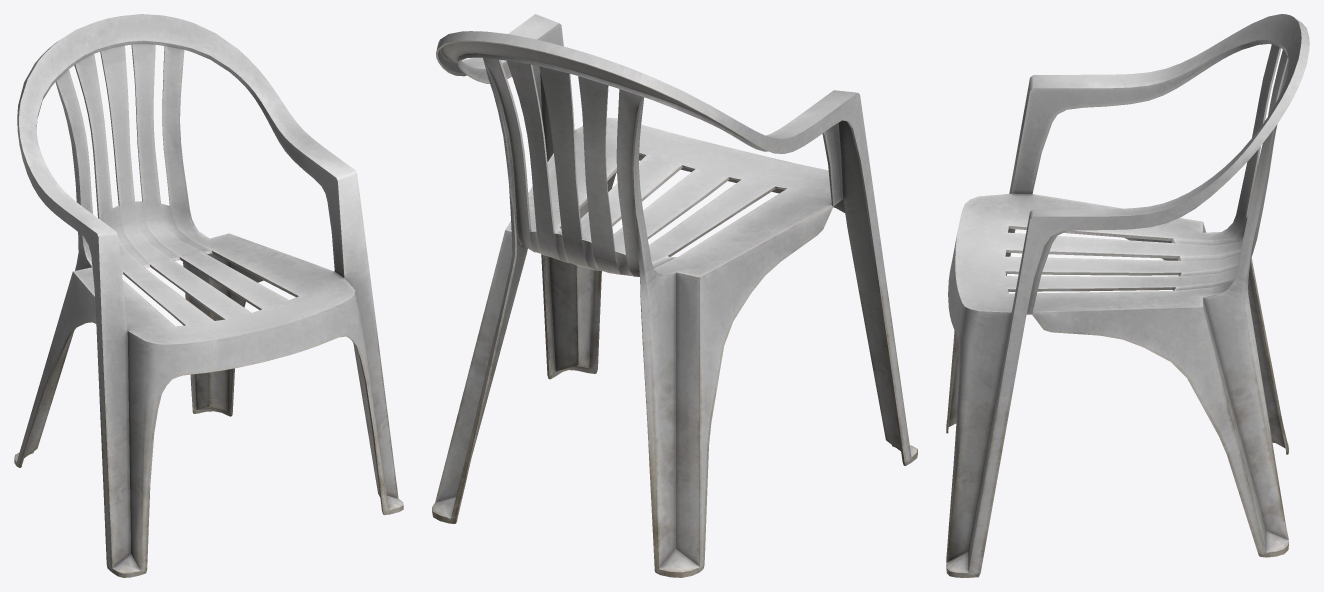
File: plastic_monobloc_chair_01.glb
The picture shows the model from 3 angles, left to right: view 1: azimuth 30°, elevation 25°; view 2: azimuth 150°, elevation 25°; view 3: azimuth 270°, elevation 25°; orthographic projection. The views are drawn at different scales.
Visible parts, largest first — view 1: plastic_monobloc_chair_01; view 2: plastic_monobloc_chair_01; view 3: plastic_monobloc_chair_01.
Part boxes in pixels (<box>): plastic_monobloc_chair_01: <box>14,14,403,577</box>; plastic_monobloc_chair_01: <box>432,14,917,577</box>; plastic_monobloc_chair_01: <box>946,14,1309,577</box>.
Size of the model in its own units: 0.6419 by 0.8798 by 0.6276.
Materials: 1 (1 with a texture image).
